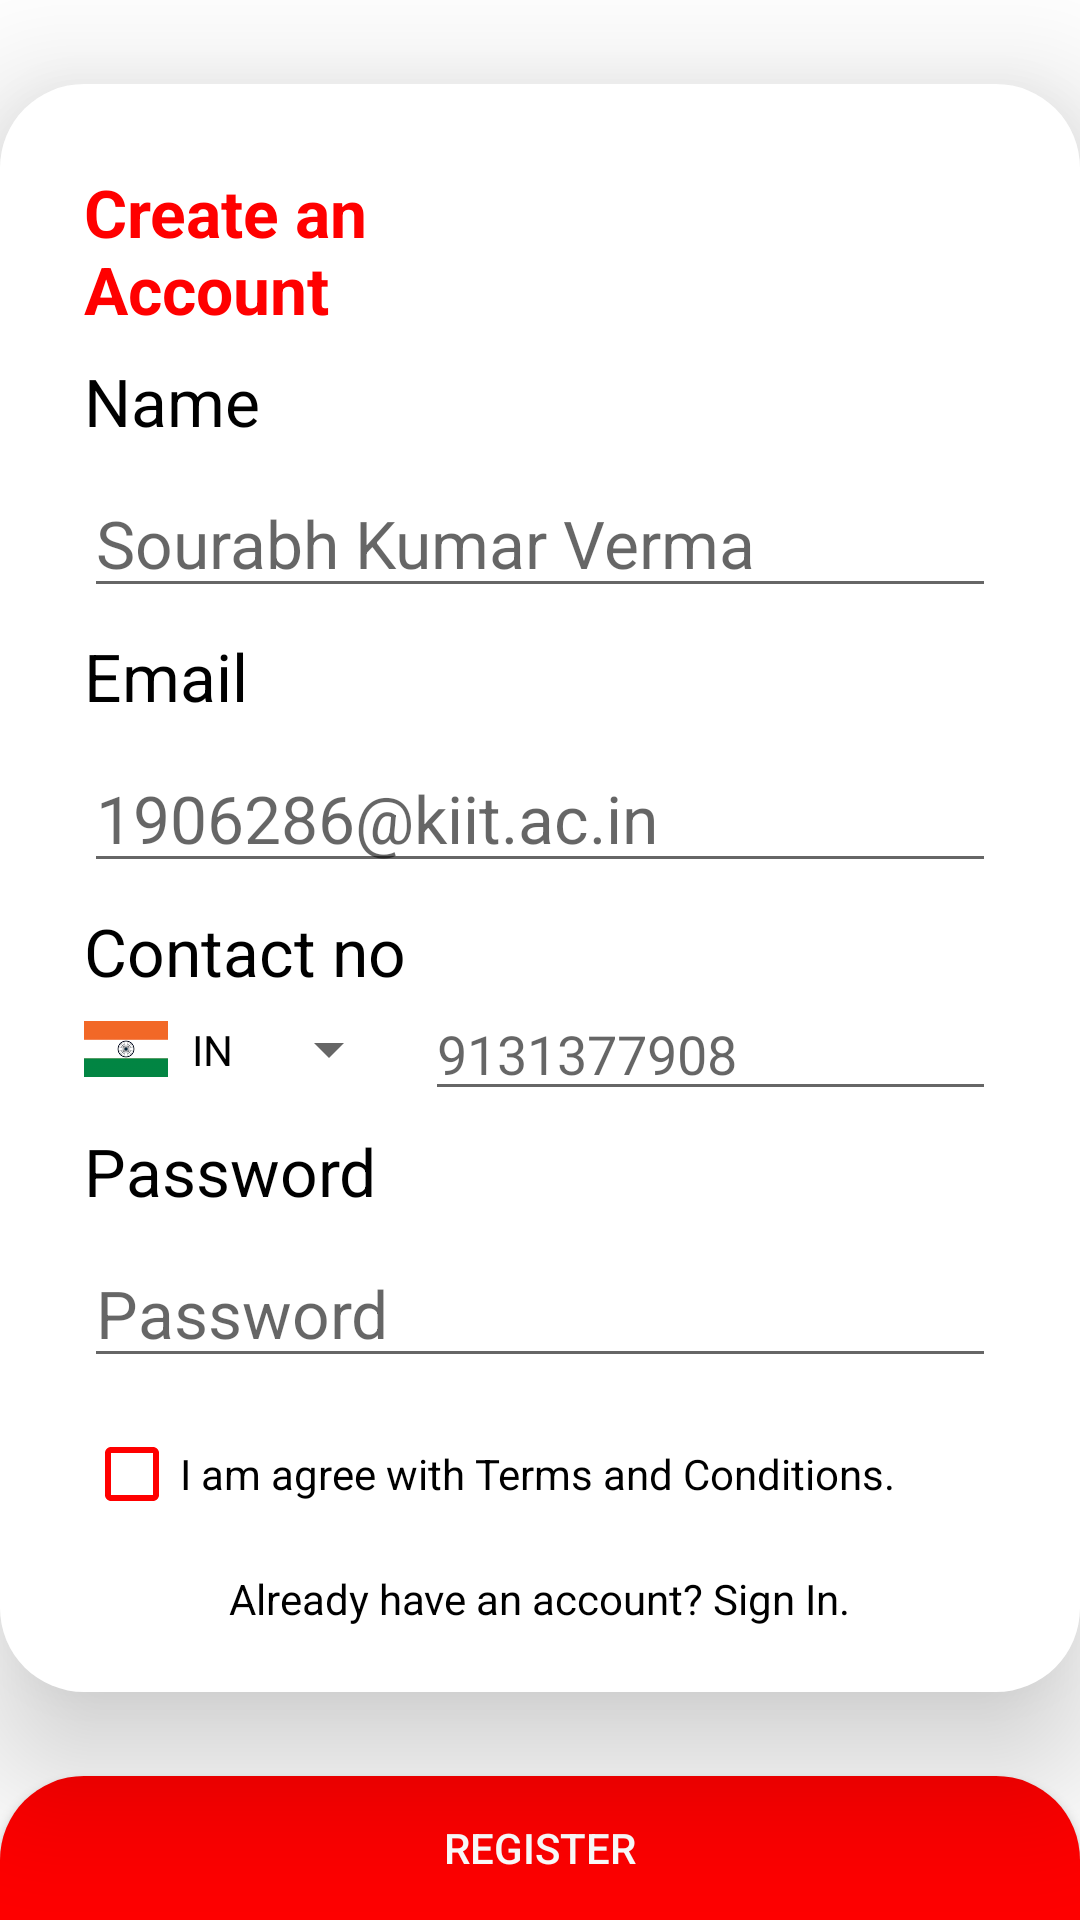

Screen size 1080w x 1920h. Icon name, then its center in pixels as point (x, y):
indian flag: point (126, 1049)
